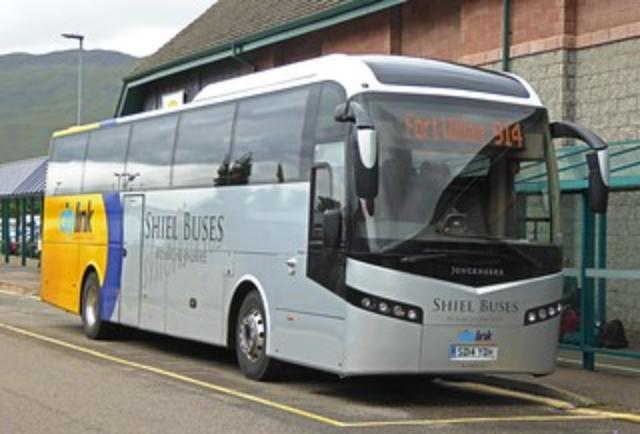bus: (36, 50, 564, 382)
